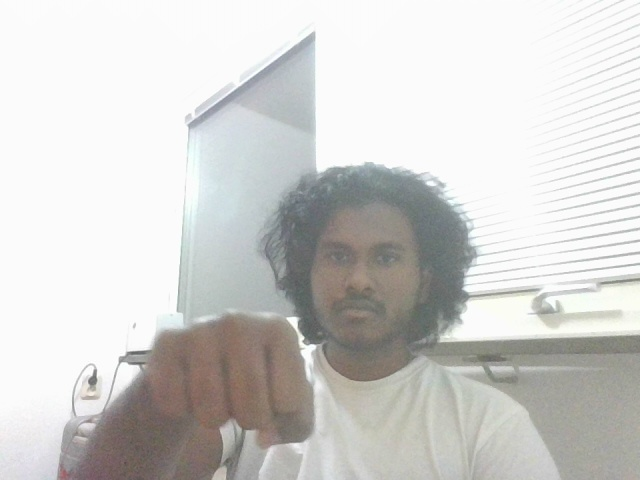Yes: (129, 306, 337, 457)
